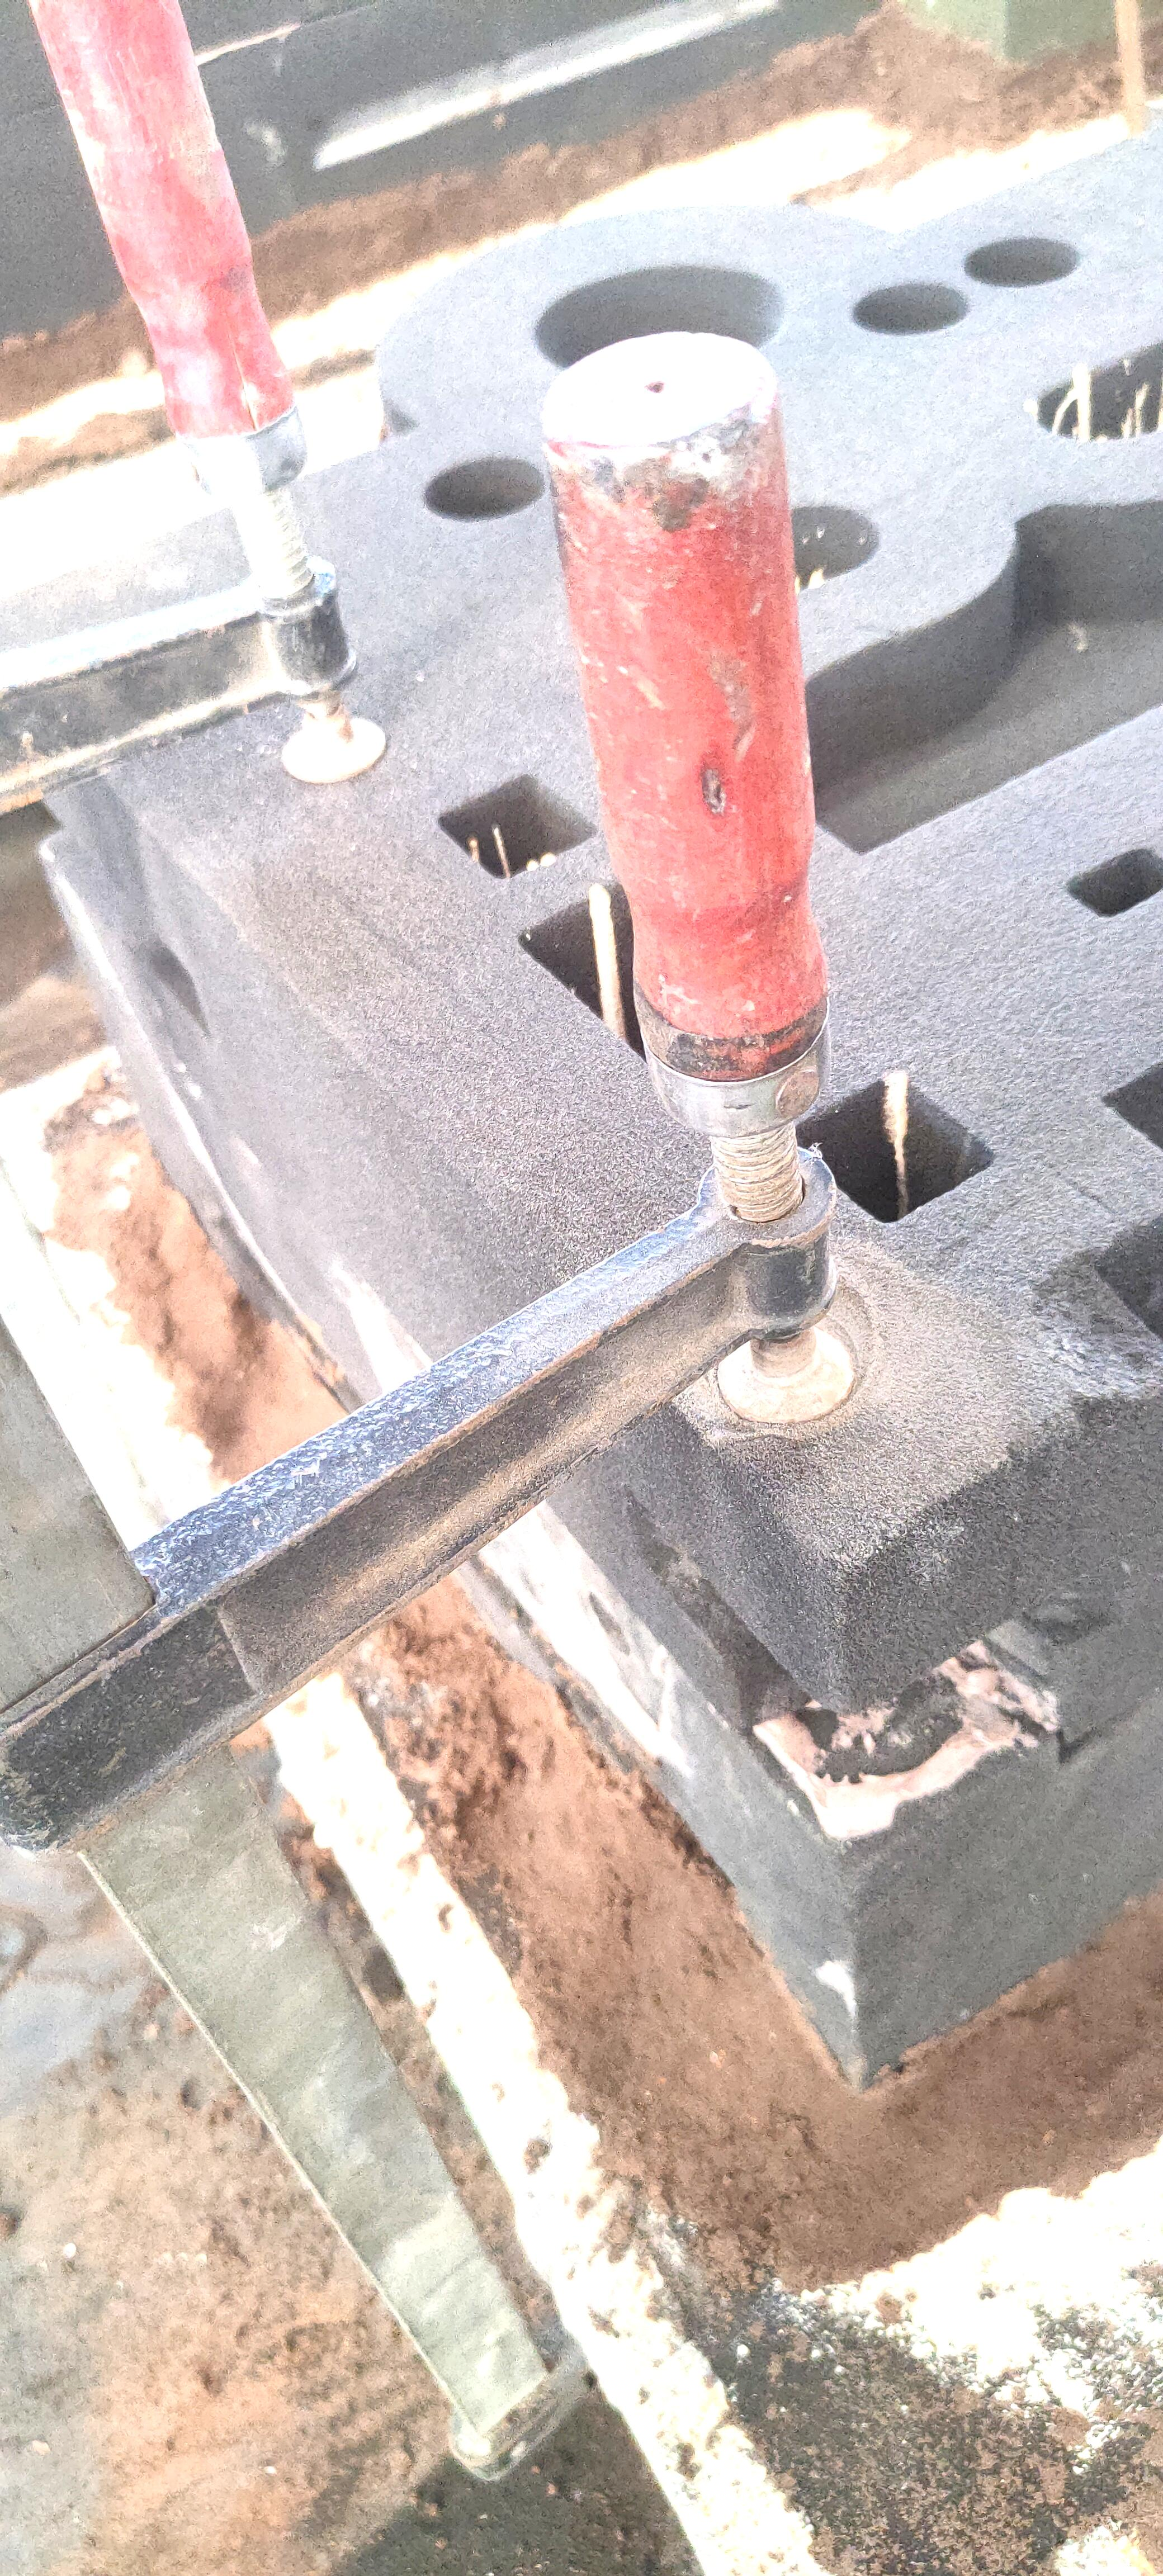pouring hole: (534, 263, 787, 375)
